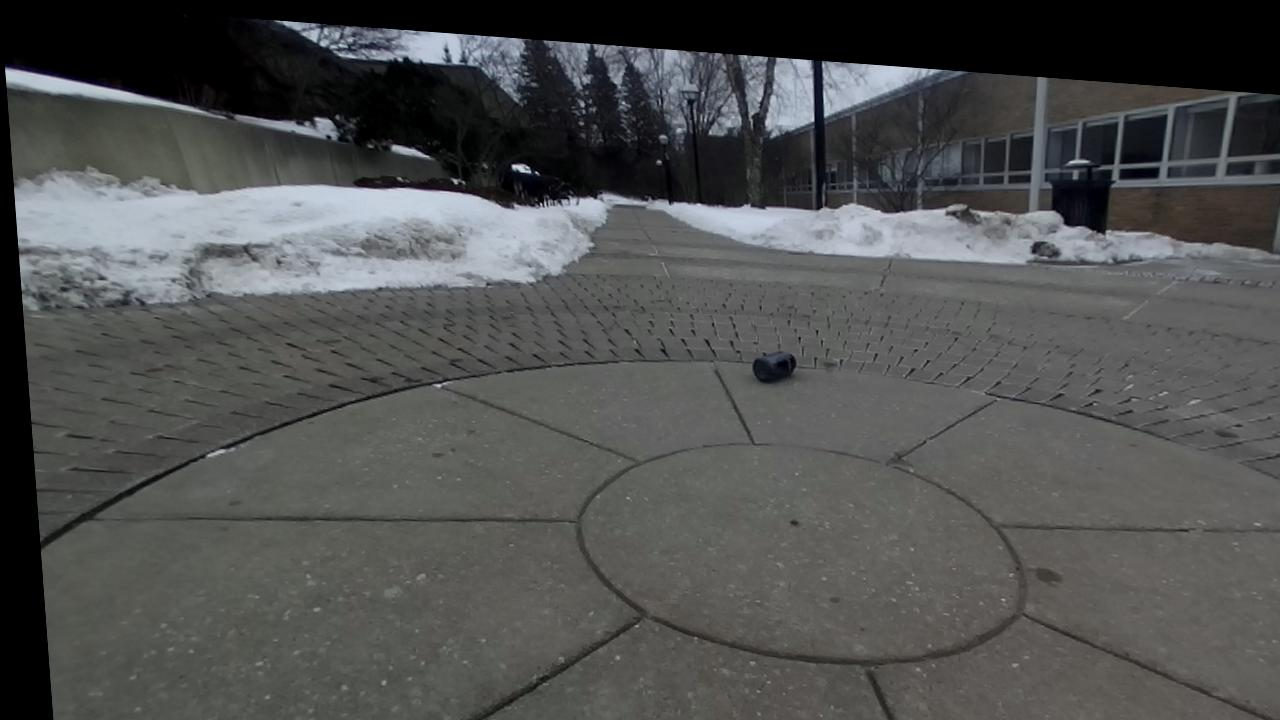bottle: (753, 351, 796, 382)
